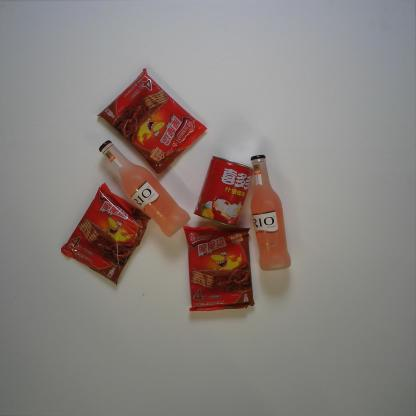Alcohol: (98, 140, 192, 238), (249, 154, 292, 272)
Canned Food: (192, 155, 255, 228)
Dessert: (96, 67, 208, 176), (60, 182, 153, 286), (183, 224, 255, 312)
